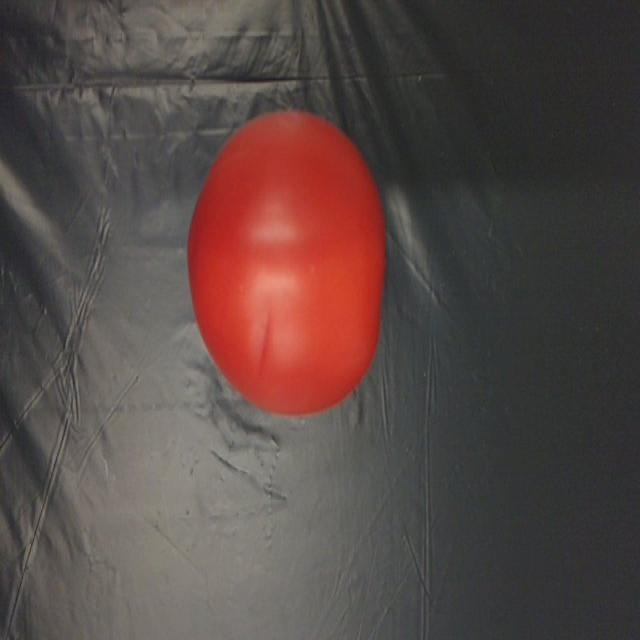kirmizi: (188, 103, 392, 411)
